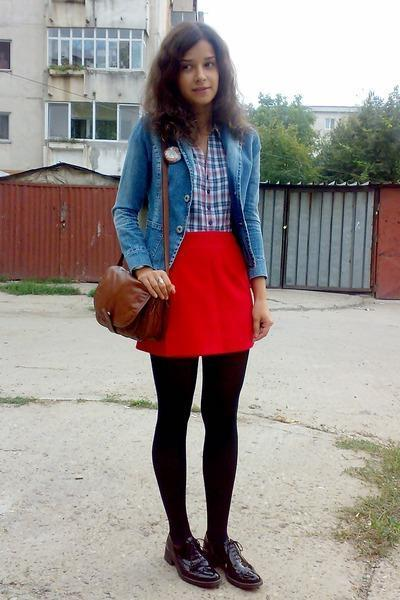jacket: (108, 107, 268, 291)
short sleeve shirt: (171, 123, 240, 239)
skirt: (135, 228, 258, 358)
